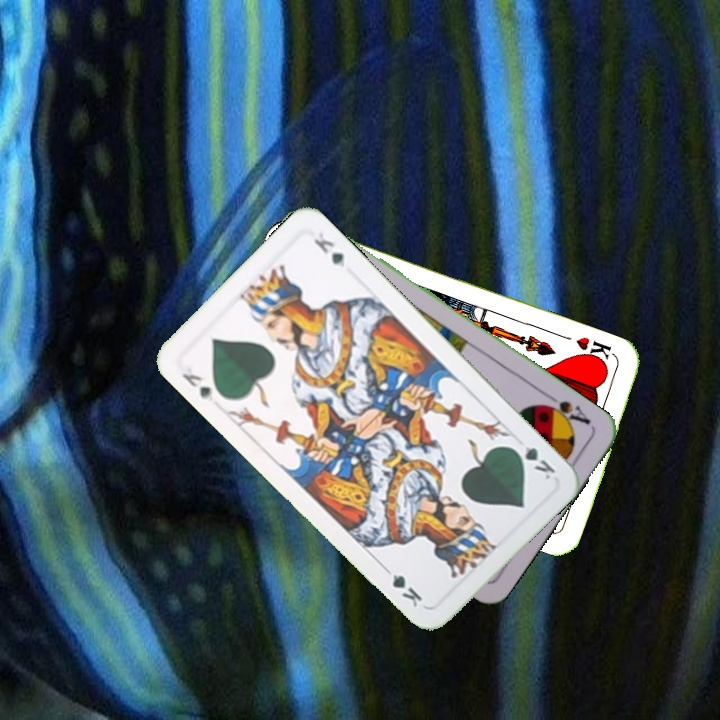GK: (507, 440, 558, 483), (178, 369, 216, 404)
HK: (571, 332, 620, 368)
SA: (538, 390, 594, 431)
